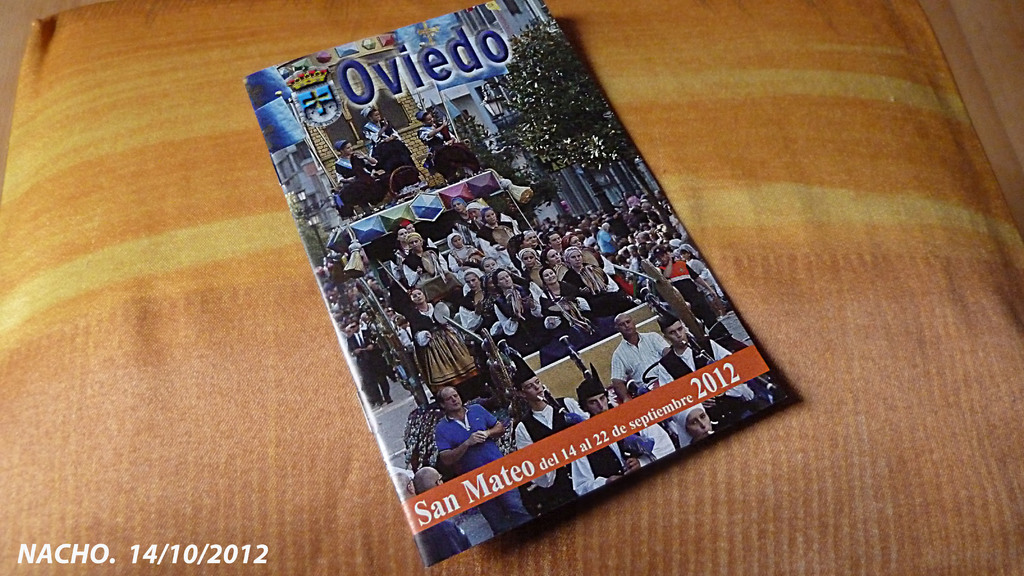Book: (233, 12, 887, 575)
